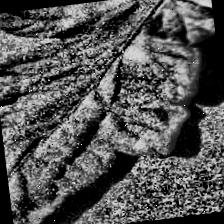leaf mold: (0, 0, 224, 181)
